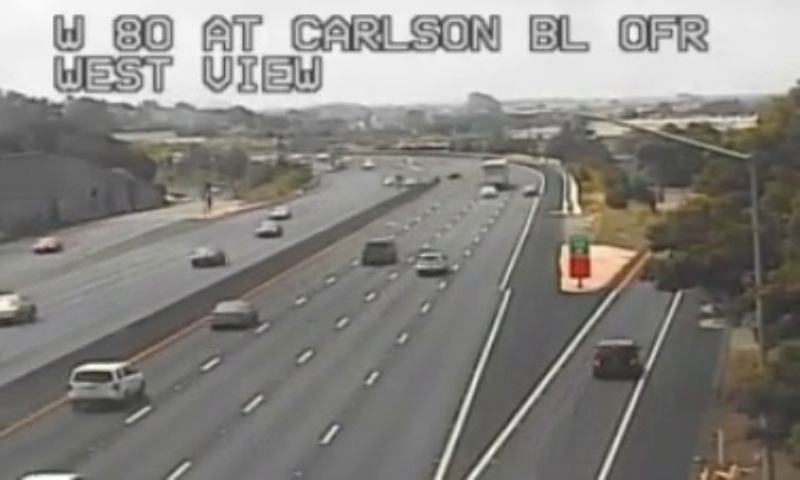car: (67, 362, 144, 406), (591, 341, 638, 377), (210, 300, 255, 327), (362, 238, 394, 265), (414, 251, 446, 275)
